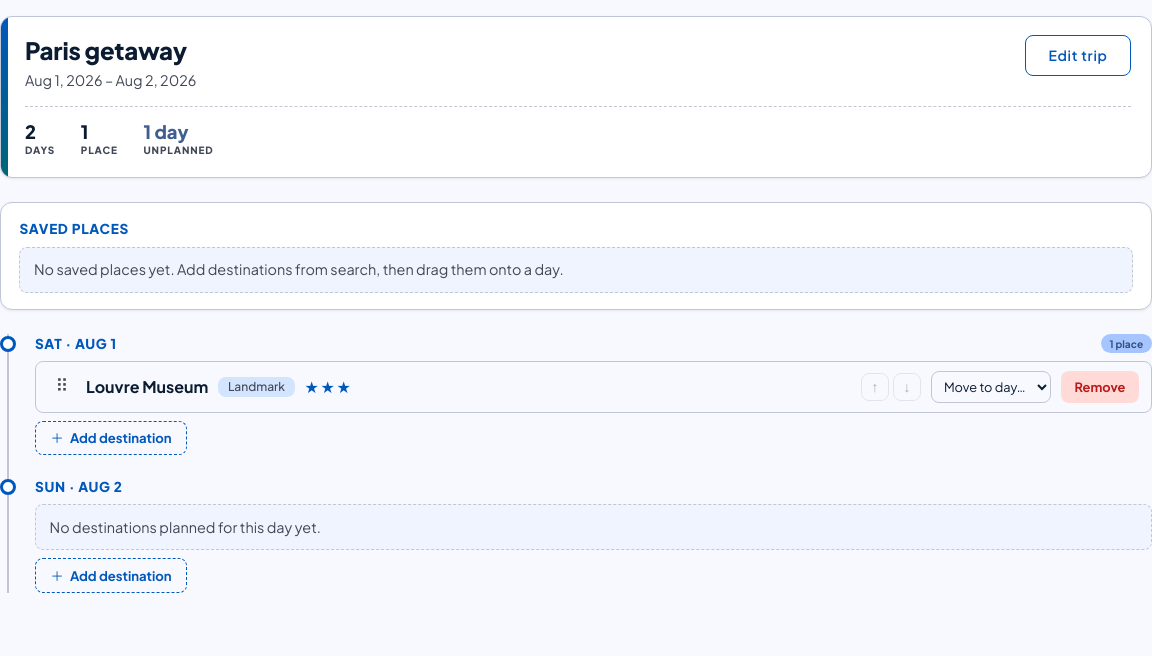
Test: TripPlannerPage › edits the trip with a pre-filled form and updates the day sections
Check: the heading "Paris getaway" is shown, box [25,35,196,67]
Click the button "Edit trip".
click(1078, 56)  # box [1025,35,1131,76]
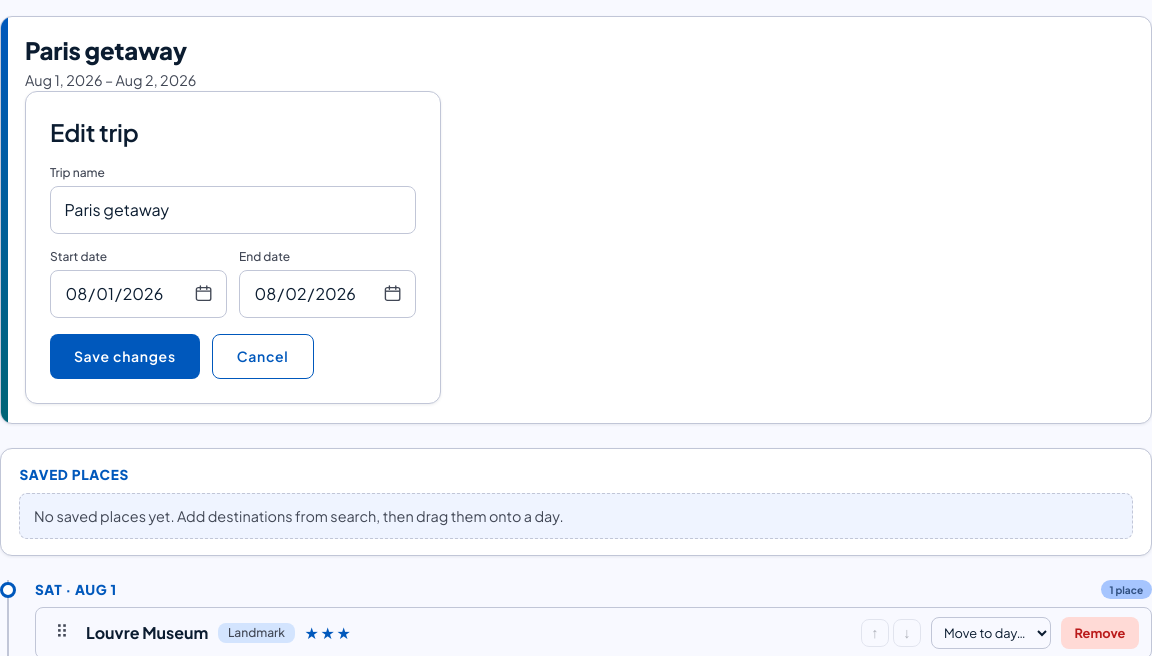
Check: the field labelled "Trip name" holds "Paris getaway", box [50,186,416,234]
Check: the date field labelled "Start date" holds "2026-08-01", box [51,271,182,317]
Check: the date field labelled "End date" holds "2026-08-02"
Type "2026-08-03" into the date field labelled "End date".
click(306, 294); type("2026-08-03")  # box [240,271,371,317]
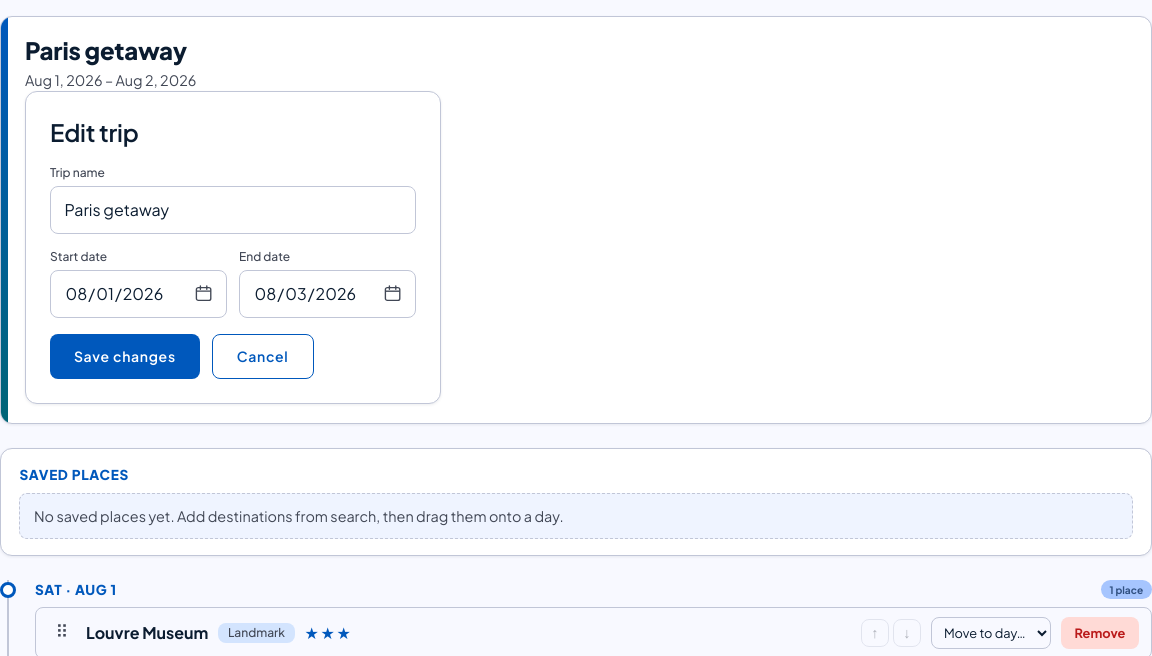
Click the button "Save changes".
click(125, 357)  # box [50,334,200,379]
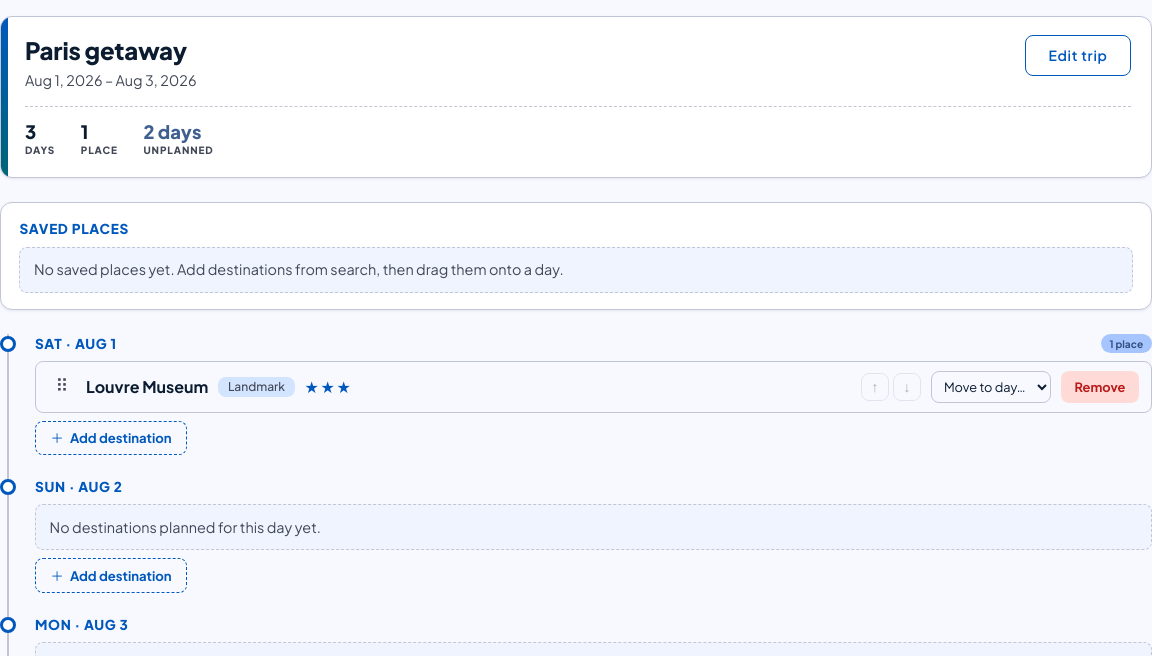
Check: the heading "Mon · Aug 3" is shown, box [35,615,129,634]
